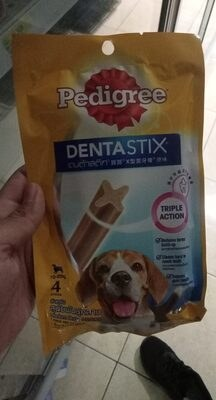Dentastix pedigree M 98gr: (11, 20, 205, 380)
